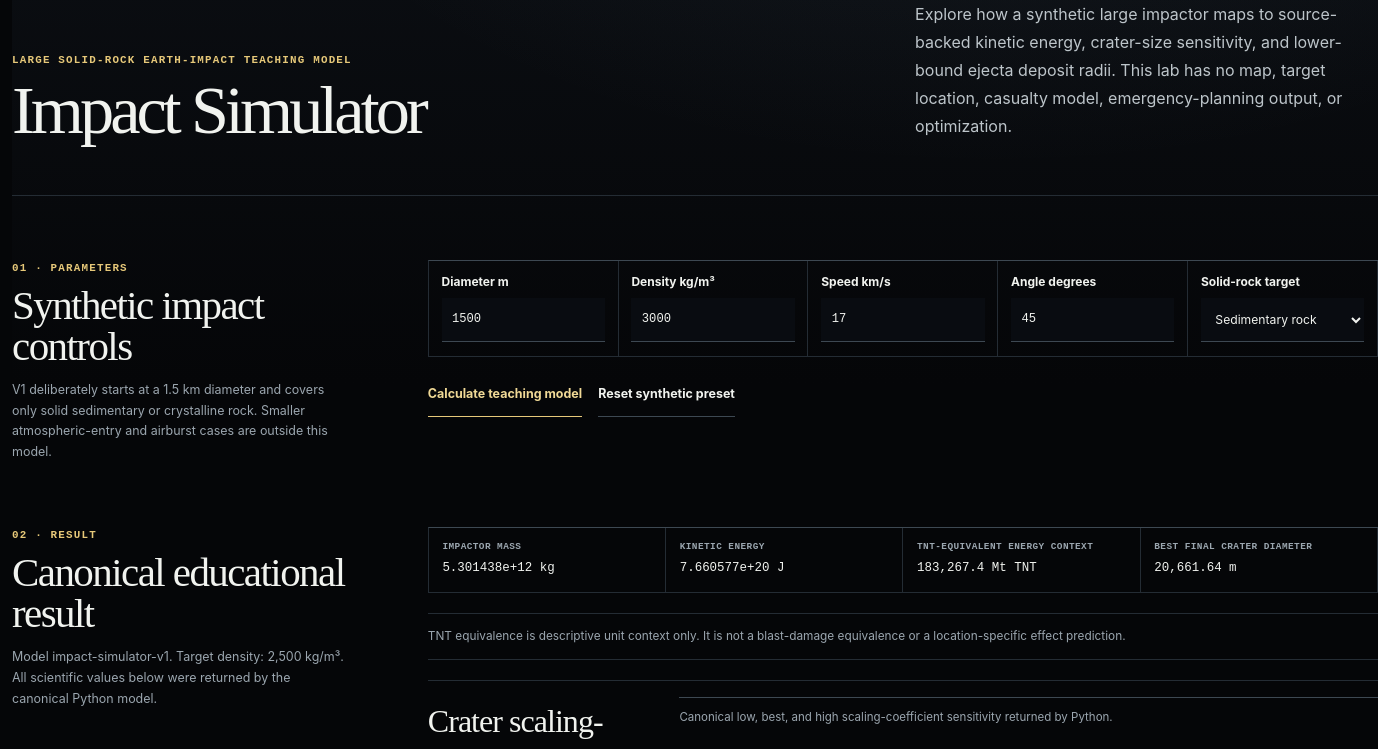
Test: ImpactSimulatorView › rejects out-of-domain drafts locally without an API request
This screenshot has width=1378, height=749.
Replace the text in the number field named "Impactor diameter m" with "1499" at [523, 320], box left=442, top=298, right=605, bottom=342
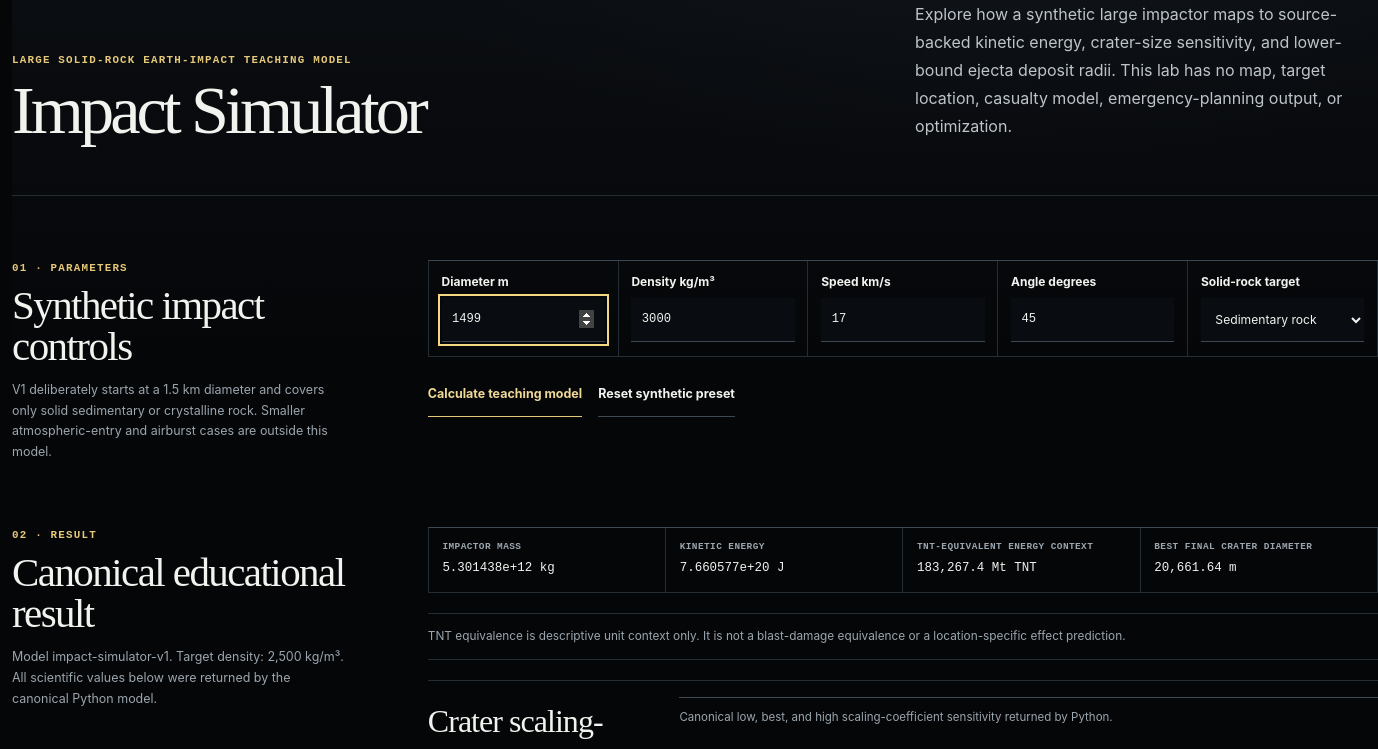
Submit the form named "Calculate teaching model", box left=428, top=260, right=1377, bottom=417
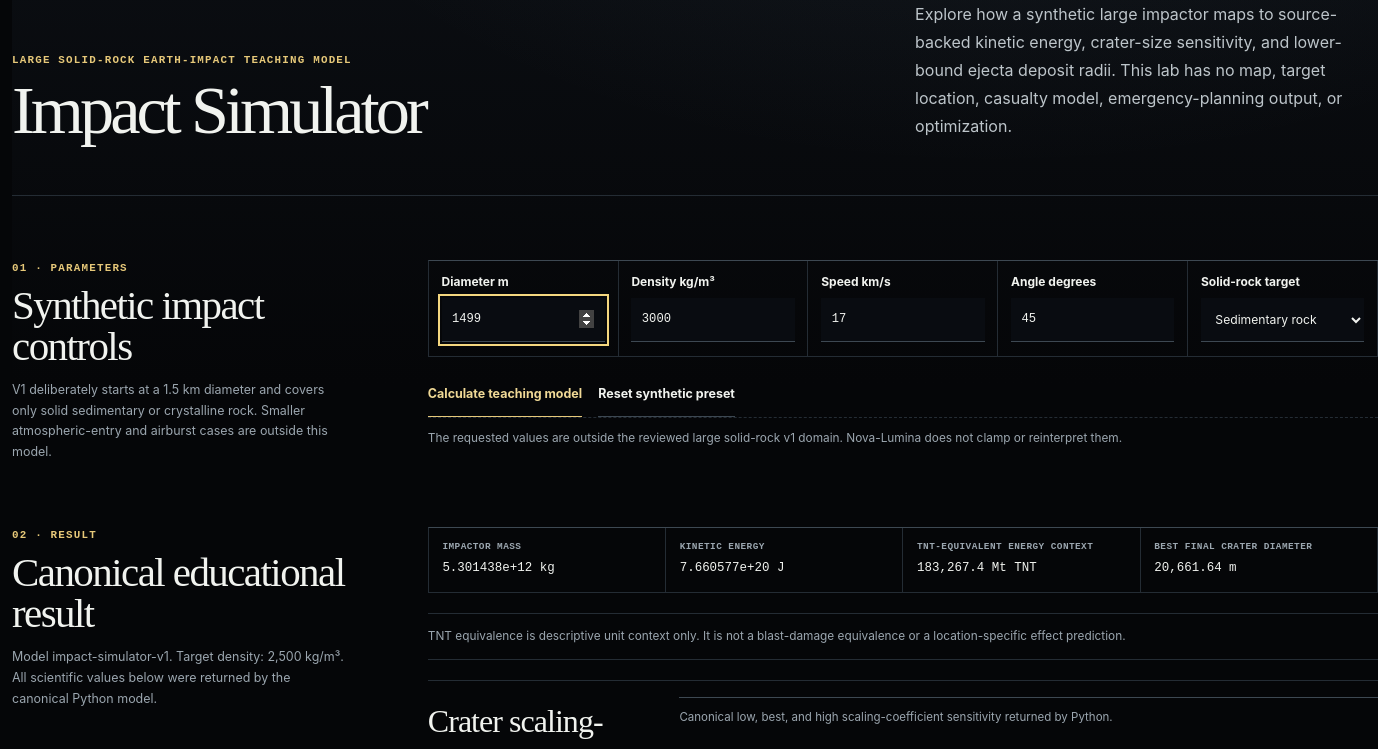
Result: the text "outside the reviewed large solid-rock v1 domain" is shown at left=428, top=431, right=1122, bottom=445
